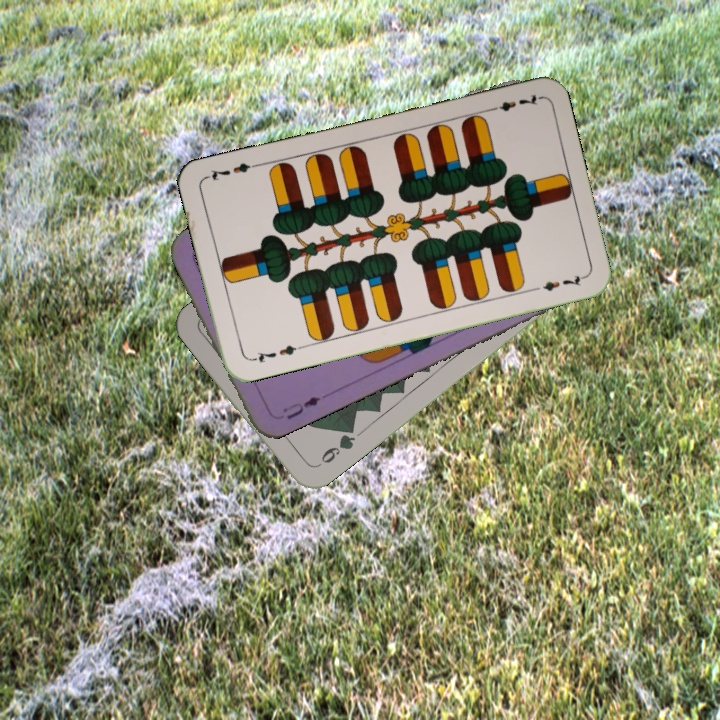E7: (246, 340, 305, 366), (484, 90, 542, 115)
EU: (279, 392, 323, 423)
G9: (310, 425, 358, 471)
